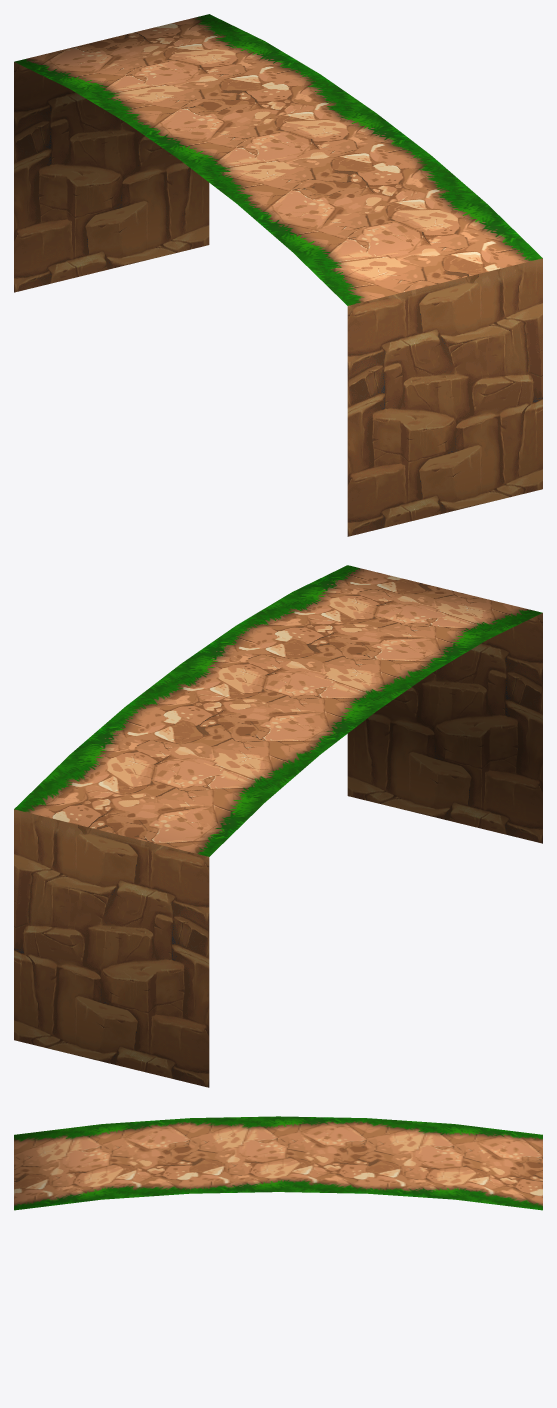
Rendered from bottom01.FBX.
The picture shows the model from 3 angles, top to bottom: view 1: azimuth 30°, elevation 25°; view 2: azimuth 150°, elevation 25°; view 3: azimuth 270°, elevation 25°; orthographic projection. The views are drawn at different scales.
Visible parts, largest first — view 1: bottom01; view 2: bottom01; view 3: bottom01.
Boxes of the visible parts, left/top/right/bottom form: bottom01: left=14, top=14, right=542, bottom=536; bottom01: left=14, top=565, right=542, bottom=1087; bottom01: left=14, top=1116, right=542, bottom=1210.
Size of the model in its own units: 86.71 by 108 by 256.
